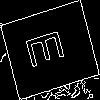E: (25, 24, 73, 70)
